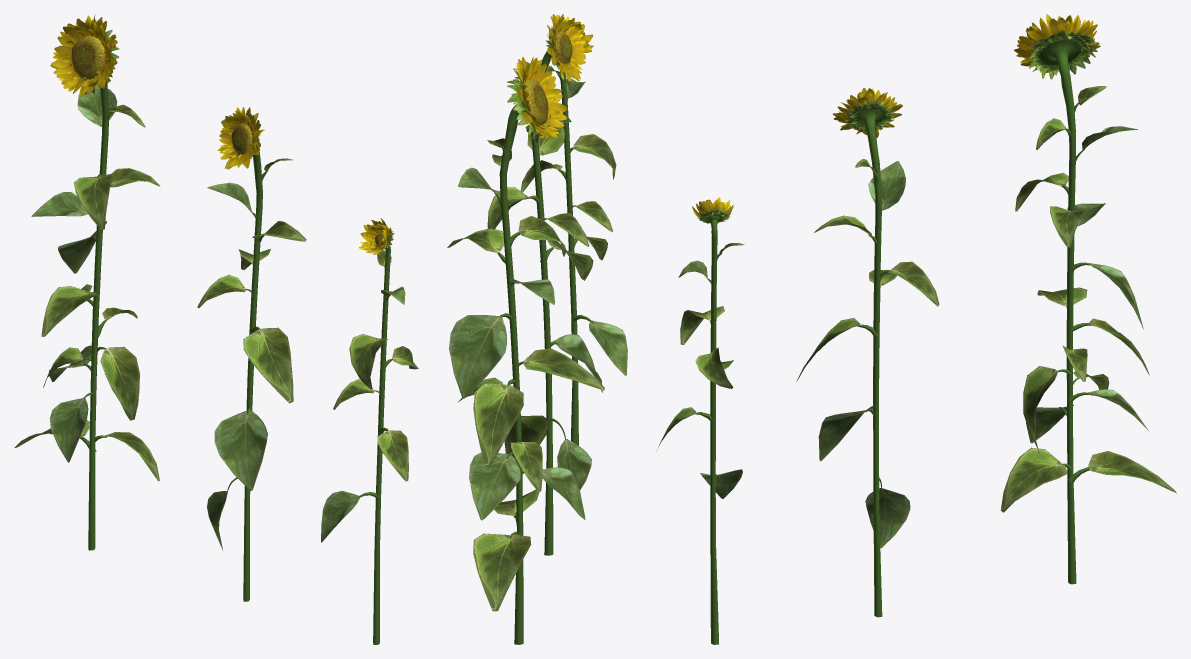
File: Sunflower.fbx
The picture shows the model from 3 angles, left to right: view 1: azimuth 30°, elevation 25°; view 2: azimuth 150°, elevation 25°; view 3: azimuth 270°, elevation 25°; orthographic projection. The views are drawn at different scales.
Parts seen in each view (by area): view 1: sunflower_big, sunflower_small, sunflower_mid; view 2: sunflower_big, sunflower_small, sunflower_mid; view 3: sunflower_big, sunflower_small, sunflower_mid.
Boxes of the visible parts, x1,y1,x2,y2 form: sunflower_big: (14, 14, 160, 550); sunflower_small: (197, 107, 306, 601); sunflower_mid: (321, 218, 418, 644); sunflower_big: (447, 57, 604, 644); sunflower_small: (487, 14, 602, 555); sunflower_mid: (520, 18, 627, 445); sunflower_big: (1000, 14, 1176, 584); sunflower_small: (796, 88, 939, 617); sunflower_mid: (656, 197, 744, 644).
Bounding box in the file's own units: 0.6323 × 1.45 × 1.2.
